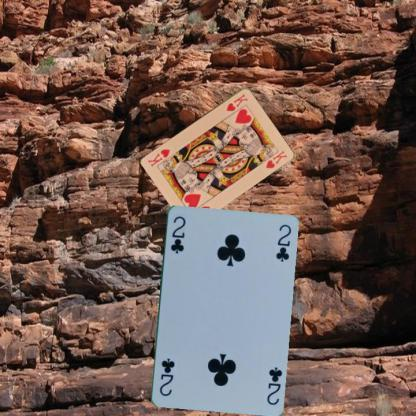2c: (264, 364, 283, 406), (168, 213, 186, 255)
Kh: (224, 90, 249, 112)
